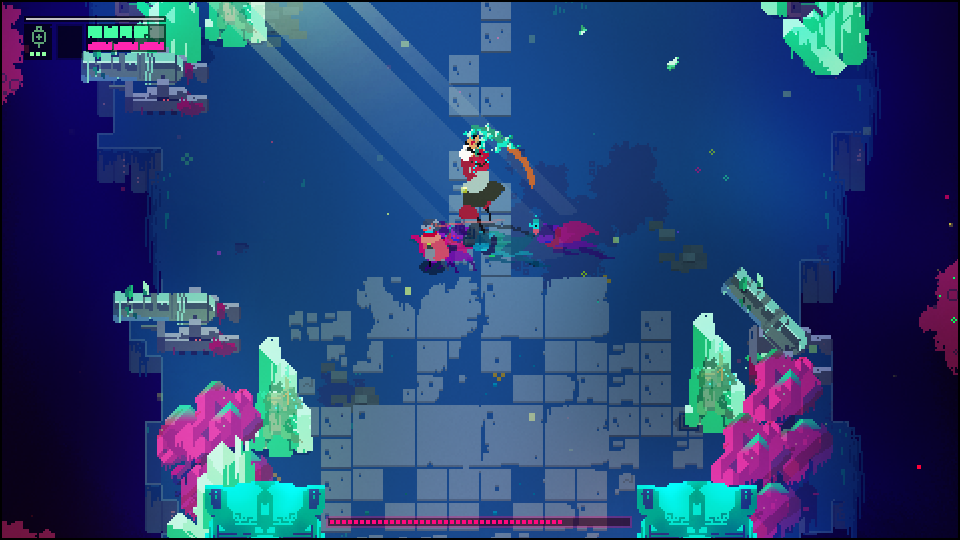hanged_man: (450, 125, 533, 223)
player: (416, 220, 451, 271)
